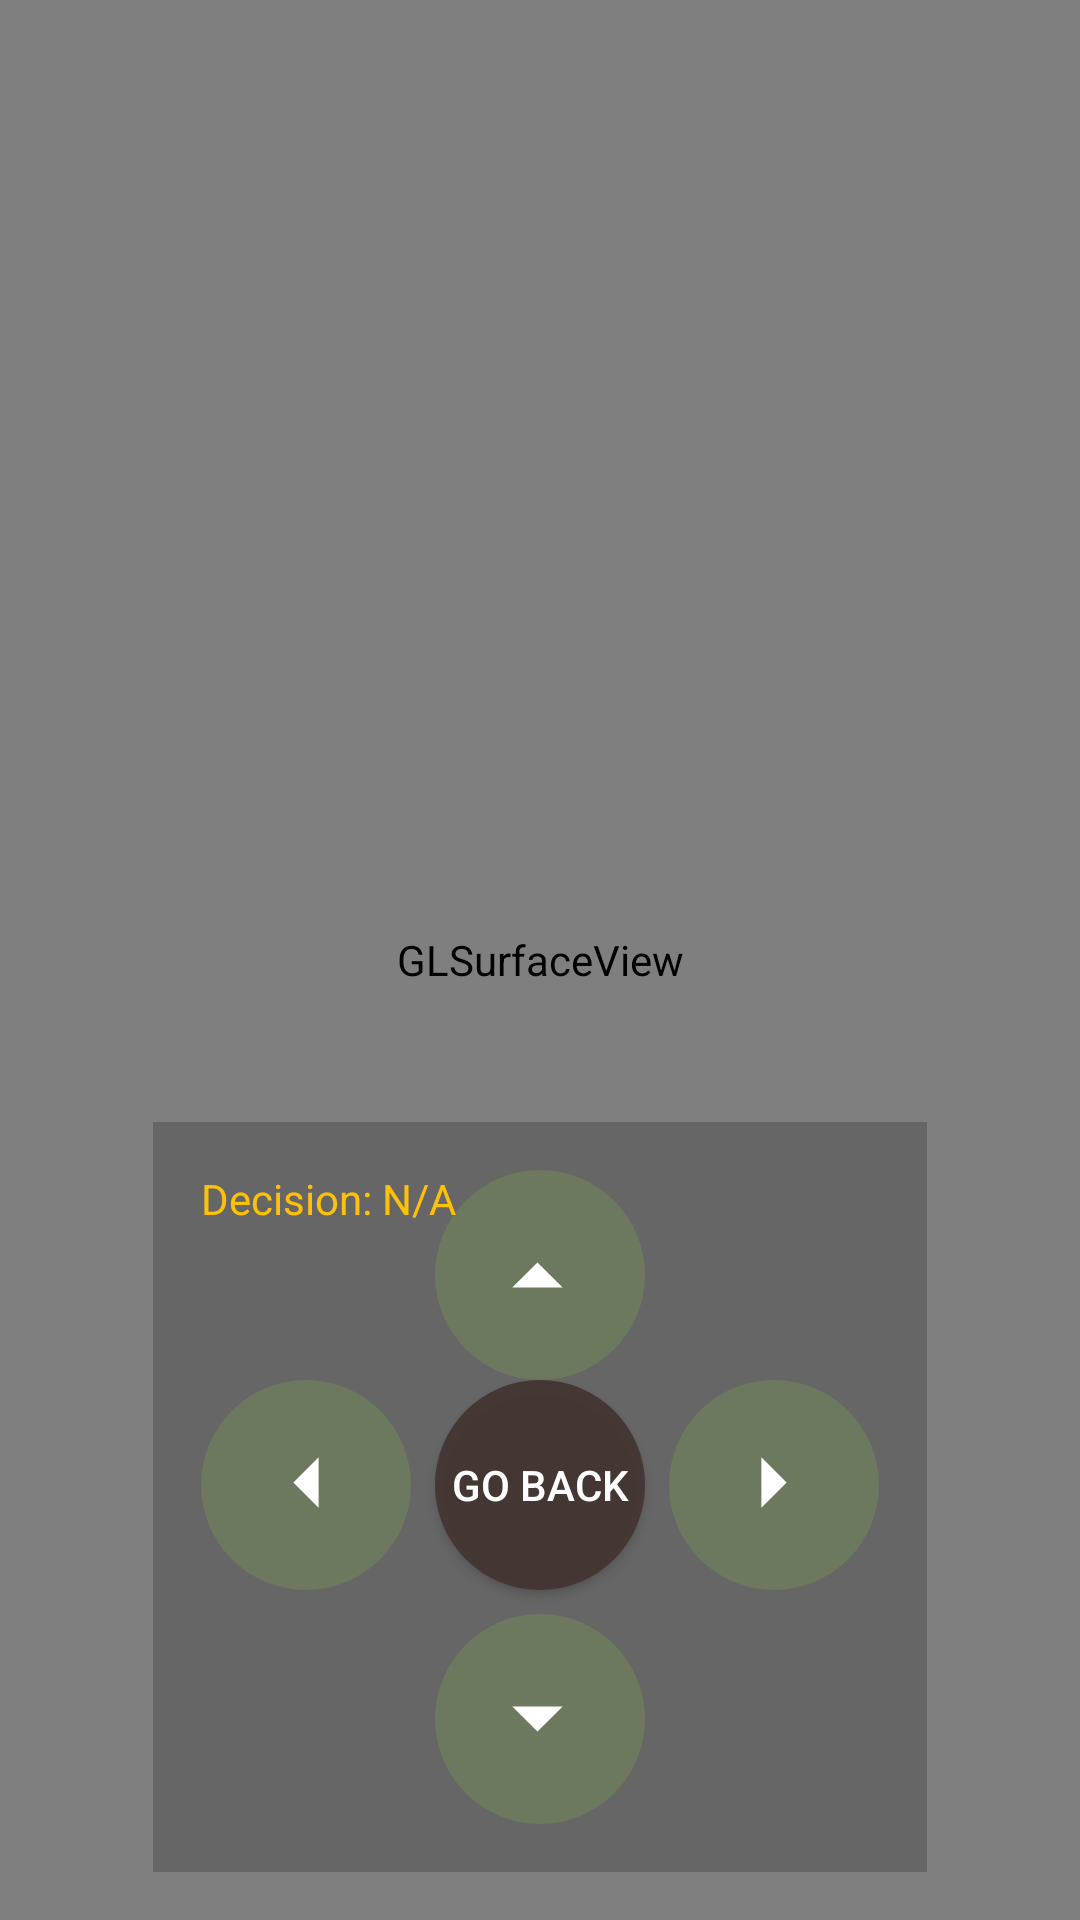

Locate icon controls on the screen. Image size 1080w x 1920h, boxes as (left=x1, top=y1, right=x2, bottom=y2).
arrow down: (left=512, top=1706, right=563, bottom=1732)
arrow left: (left=293, top=1457, right=319, bottom=1508)
arrow right: (left=761, top=1457, right=787, bottom=1508)
arrow up: (left=512, top=1262, right=563, bottom=1288)
